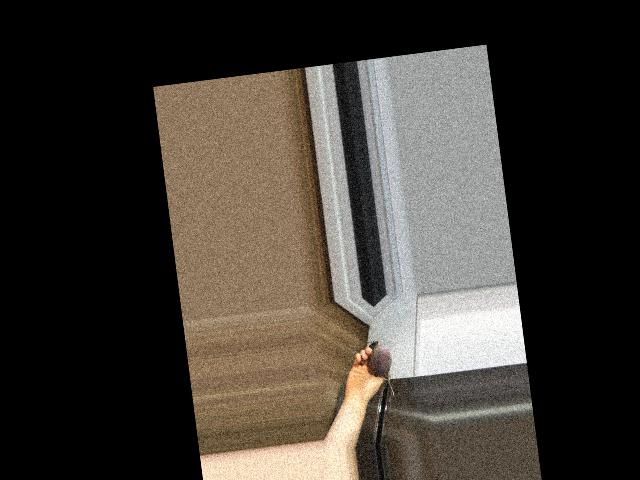beet: (366, 338, 395, 398)
